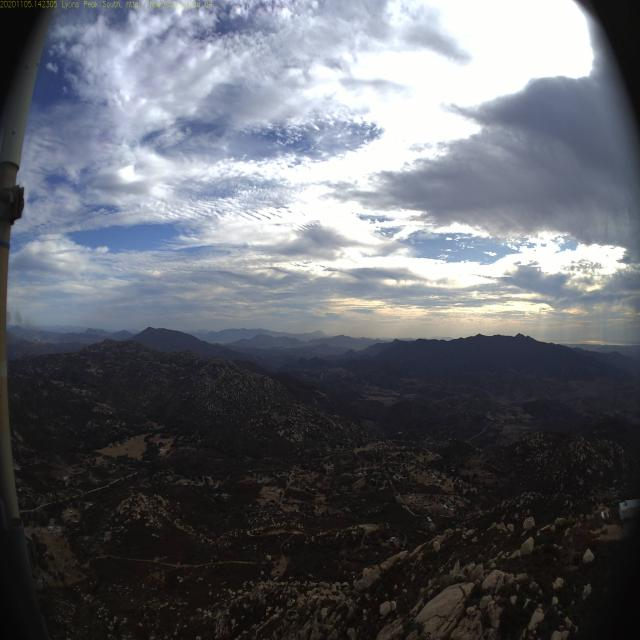smoke: (6, 306, 53, 346)
